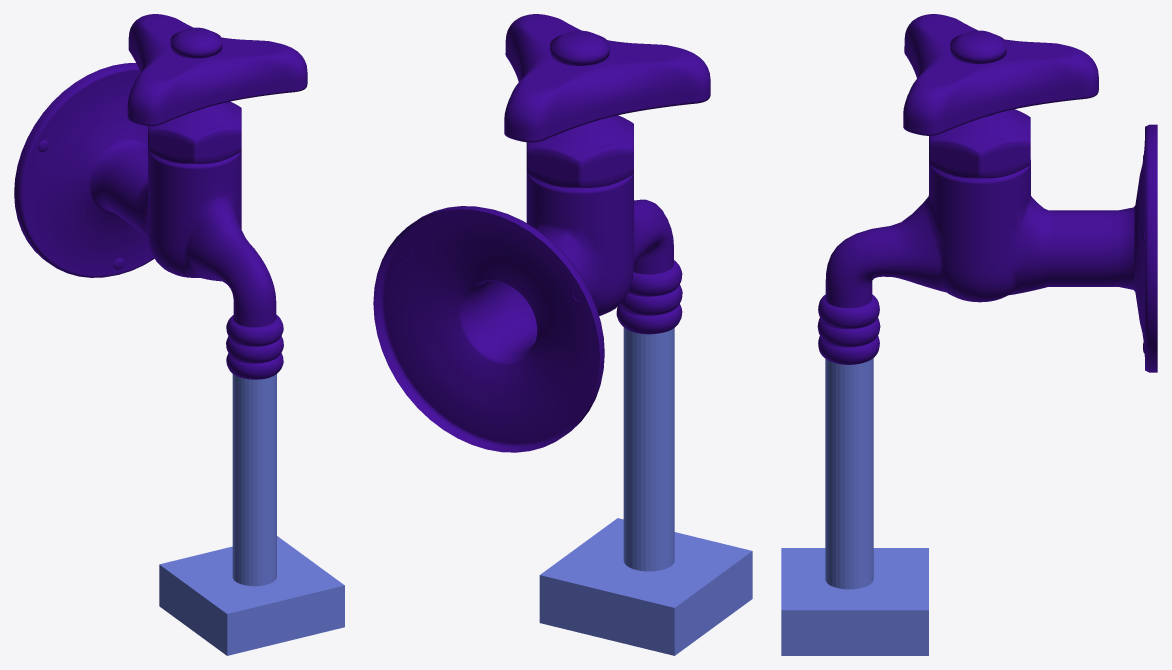
Rendered from grifoAbierto.glb.
3 renders of one model, left to right at view 1: azimuth 30°, elevation 25°; view 2: azimuth 150°, elevation 25°; view 3: azimuth 270°, elevation 25°, orthographic. The views are drawn at different scales.
Visible parts, largest first — view 1: 蛇口, Cube, Cylinder; view 2: 蛇口, Cube, Cylinder; view 3: 蛇口, Cube, Cylinder.
Boxes of the visible parts, x1=… form: 蛇口: x1=14, y1=14, x2=307, y2=379; Cube: x1=159, y1=536, x2=344, y2=655; Cylinder: x1=232, y1=374, x2=276, y2=586; 蛇口: x1=373, y1=14, x2=710, y2=452; Cube: x1=539, y1=518, x2=752, y2=655; Cylinder: x1=623, y1=327, x2=674, y2=571; 蛇口: x1=817, y1=14, x2=1157, y2=372; Cube: x1=781, y1=548, x2=928, y2=655; Cylinder: x1=825, y1=358, x2=873, y2=589.
Bounding box in the file's own units: 0.6222 × 1.63 × 0.9434.
